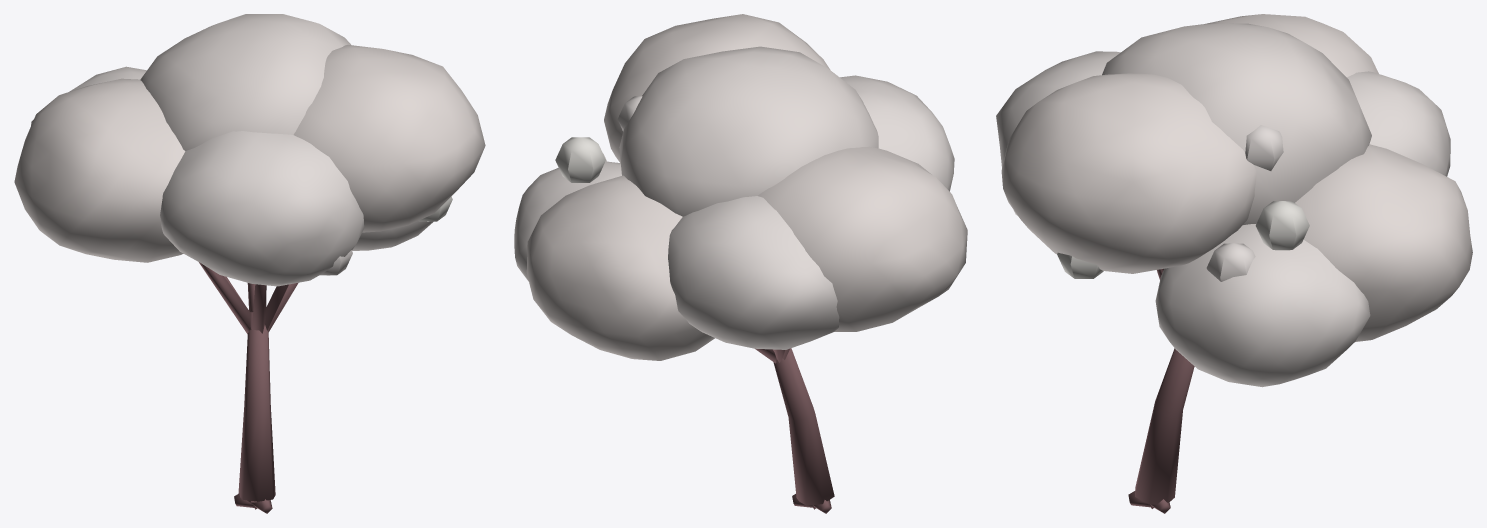
File: crab_apple_b2.glb
3 views of the same model, side by side, from view 1: azimuth 30°, elevation 25°; view 2: azimuth 150°, elevation 25°; view 3: azimuth 270°, elevation 25° (orthographic). The views are drawn at different scales.
Parts seen in each view (by area): view 1: crab_apple_b2; view 2: crab_apple_b2; view 3: crab_apple_b2.
Part boxes in pixels (bbox=[...]): crab_apple_b2: bbox=[14, 14, 485, 513]; crab_apple_b2: bbox=[514, 14, 967, 513]; crab_apple_b2: bbox=[996, 14, 1472, 513].
Size of what is drawn, in the model's own units: 5.83 by 6 by 5.28.
